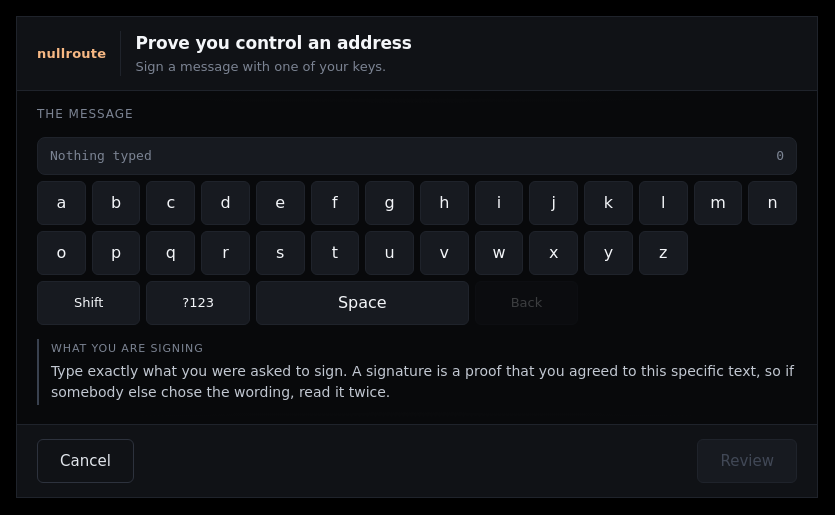
Test: MessageScreen › shows-the-whole-message-and-what-a-verifier-recomputes
Click the button "h" at [444, 203], box x1=420 y1=181 x2=469 y2=225
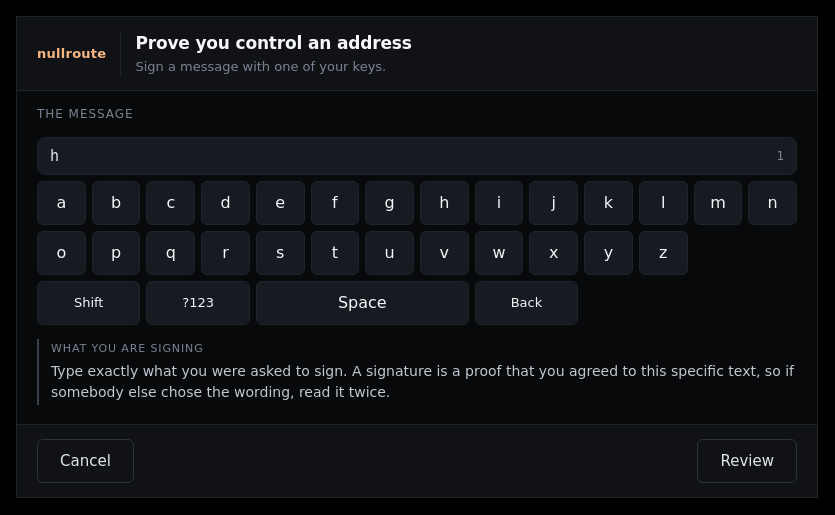
Click the button "i" at [499, 203], box x1=475 y1=181 x2=523 y2=225
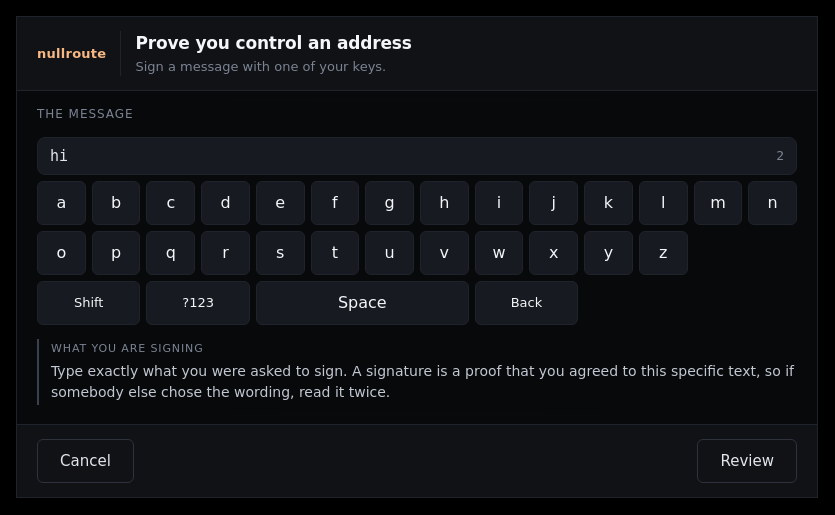
Click the button with test id "message-review" at [747, 461], box x1=698 y1=439 x2=797 y2=483
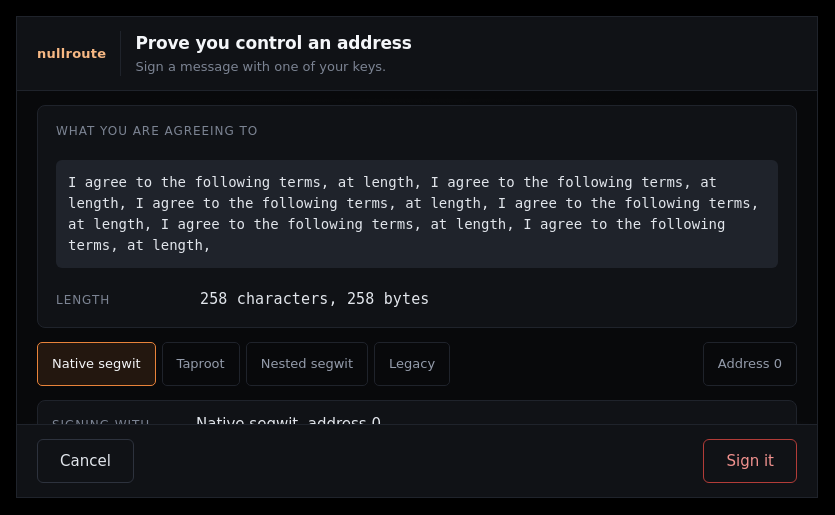
Expected: the text with test id "message-text" is shown, x1=56 y1=160 x2=778 y2=268
